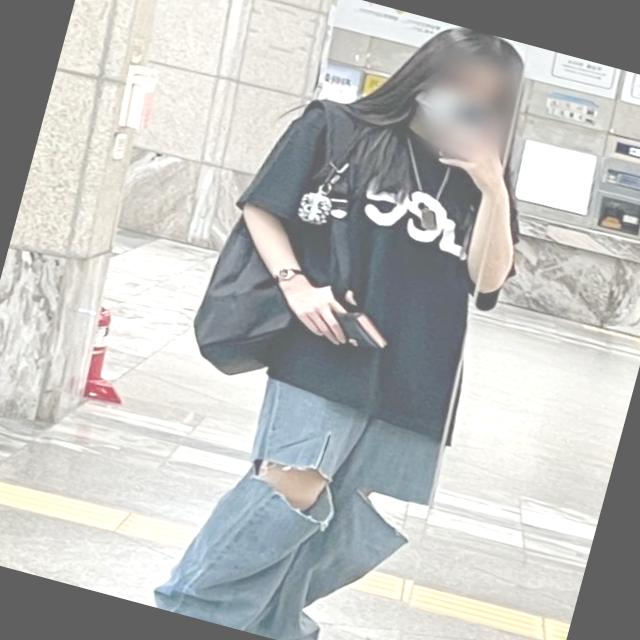denimpants: (149, 365, 451, 640)
shortsleeve: (183, 80, 530, 443)
